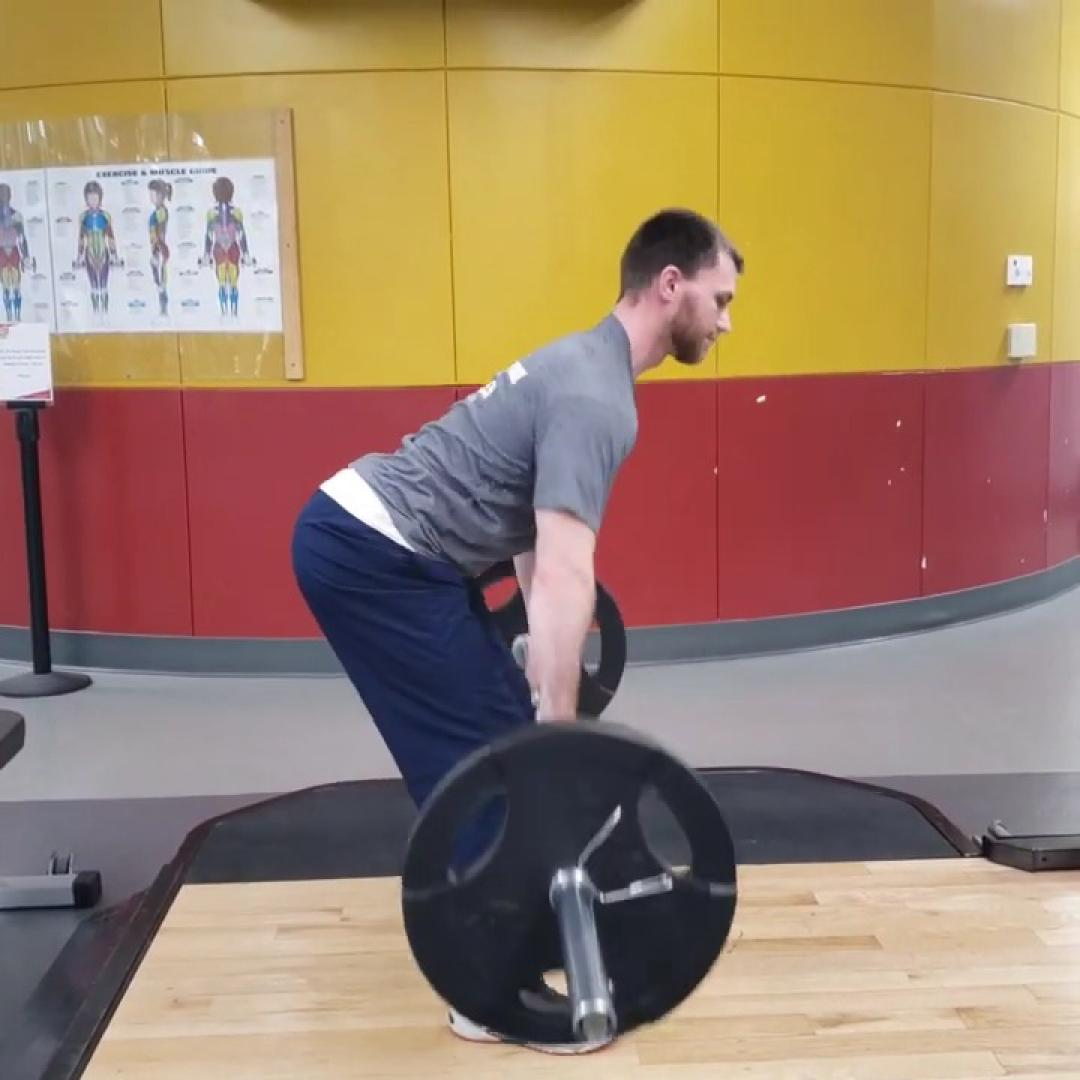Bar: (571, 1001, 621, 1047)
Barbell: (400, 732, 738, 1044)
